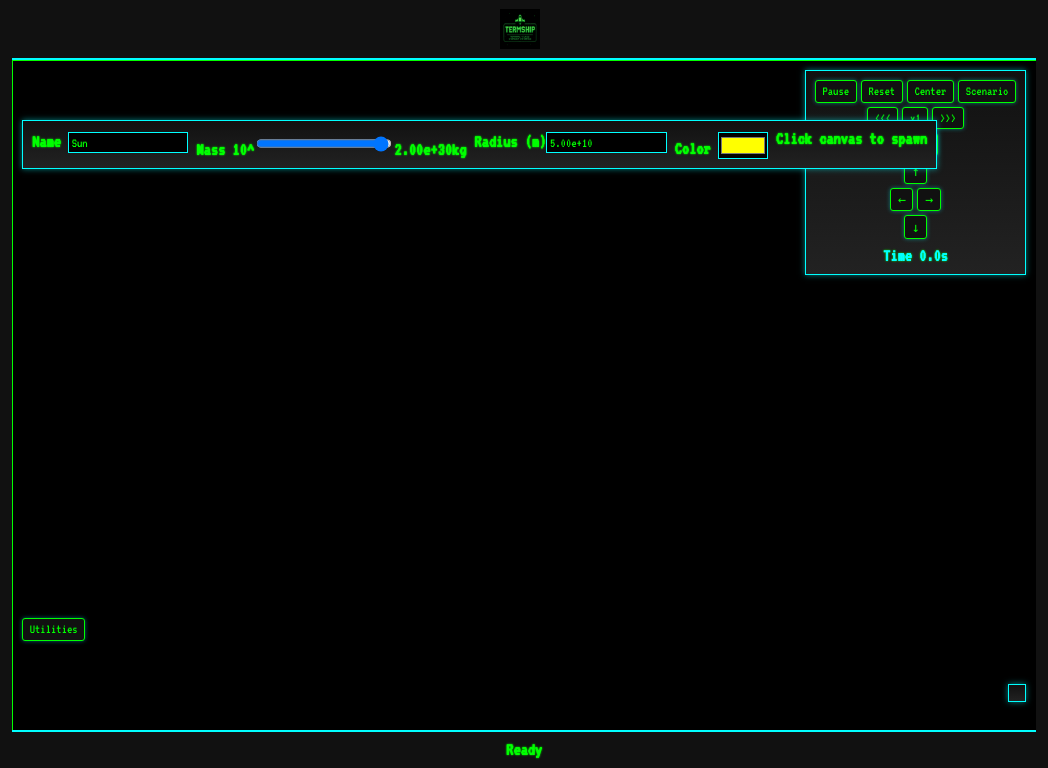
Test case: Root › contains Shipview tab button
(page scrolled)
Click the button with class "menu-toggle".
click(54, 629)  # box [22,618,85,641]
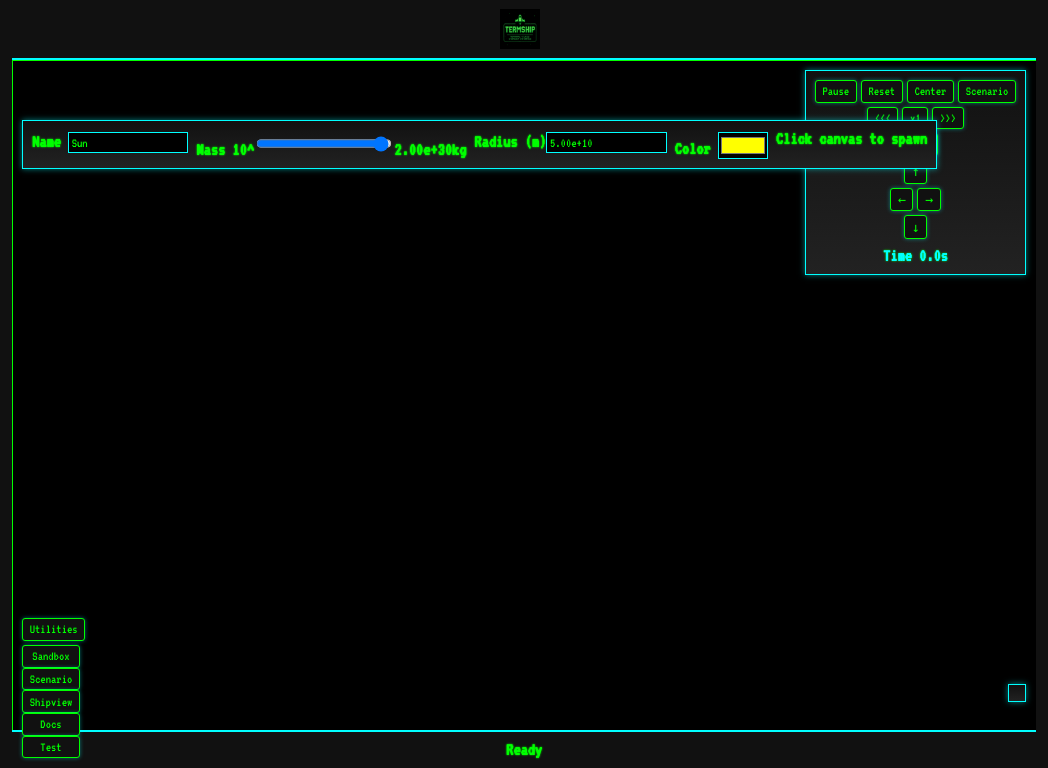
Now the button "Shipview" is shown, box [22,690,80,713]
